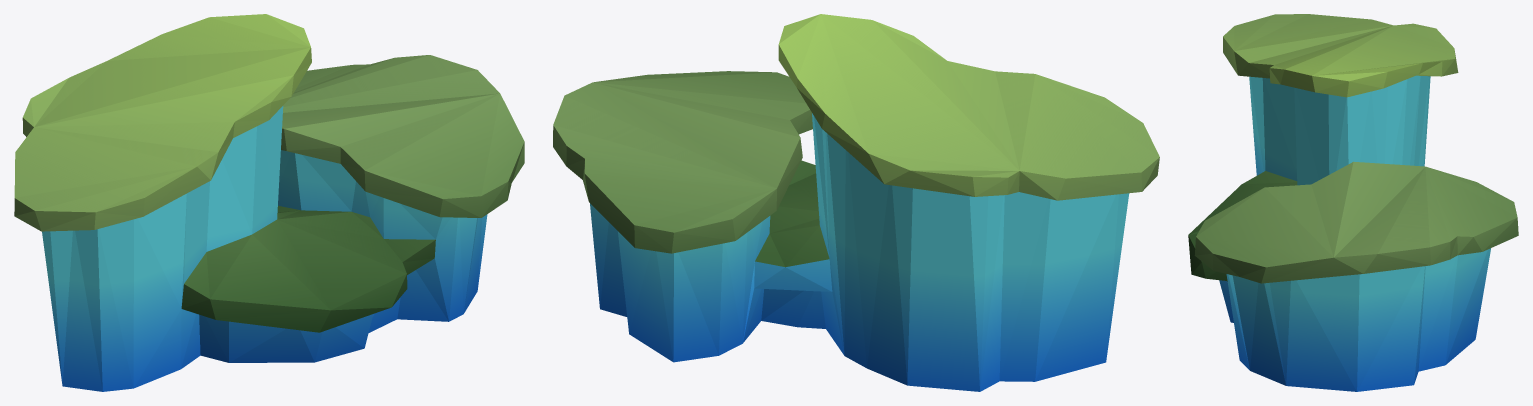
The model's file is SM_Coral_19.fbx.
3 views of the same model, side by side, from view 1: azimuth 30°, elevation 25°; view 2: azimuth 150°, elevation 25°; view 3: azimuth 270°, elevation 25° (orthographic). The views are drawn at different scales.
Parts seen in each view (by area): view 1: Coral_19; view 2: Coral_19; view 3: Coral_19.
Boxes of the visible parts, left/top/right/bottom form: Coral_19: left=14, top=14, right=524, bottom=391; Coral_19: left=553, top=14, right=1159, bottom=391; Coral_19: left=1188, top=14, right=1518, bottom=391.
Bounding box in the file's own units: 212 × 110 × 134.
